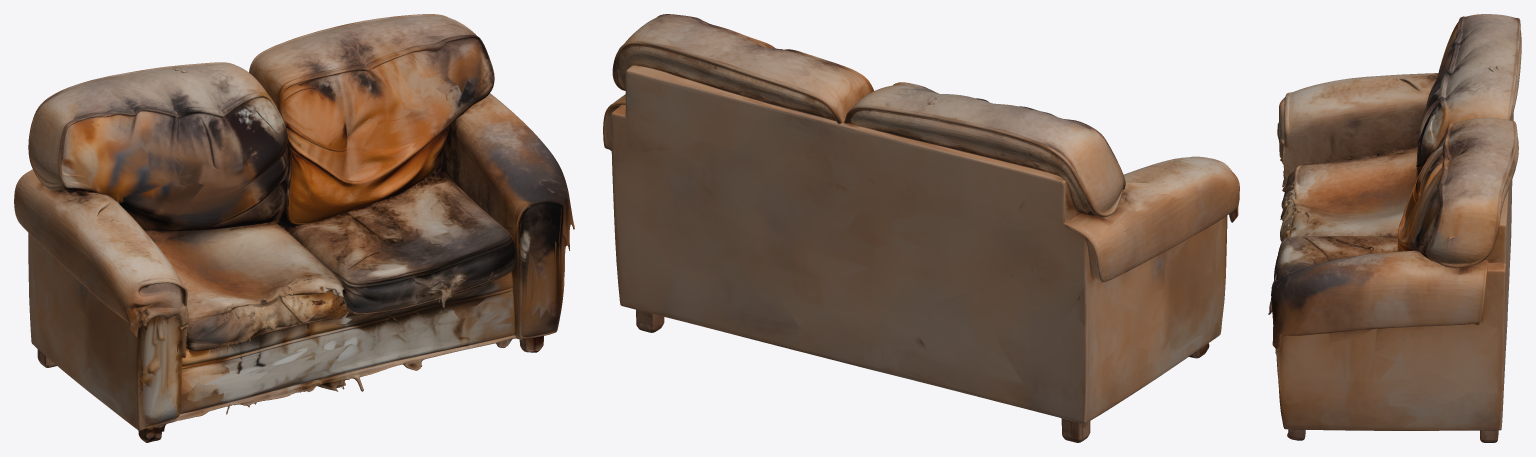
The model's file is sofa.obj.
3 views of the same model, side by side, from view 1: azimuth 30°, elevation 25°; view 2: azimuth 150°, elevation 25°; view 3: azimuth 270°, elevation 25° (orthographic). The views are drawn at different scales.
Parts seen in each view (by area): view 1: material; view 2: material; view 3: material.
Part boxes in pixels (bbox=[...]): material: bbox=[14, 14, 574, 442]; material: bbox=[603, 14, 1239, 442]; material: bbox=[1268, 14, 1521, 442].
Bounding box in the file's own units: 1.07 × 0.5975 × 0.5279.
1 material, 1 textured.
